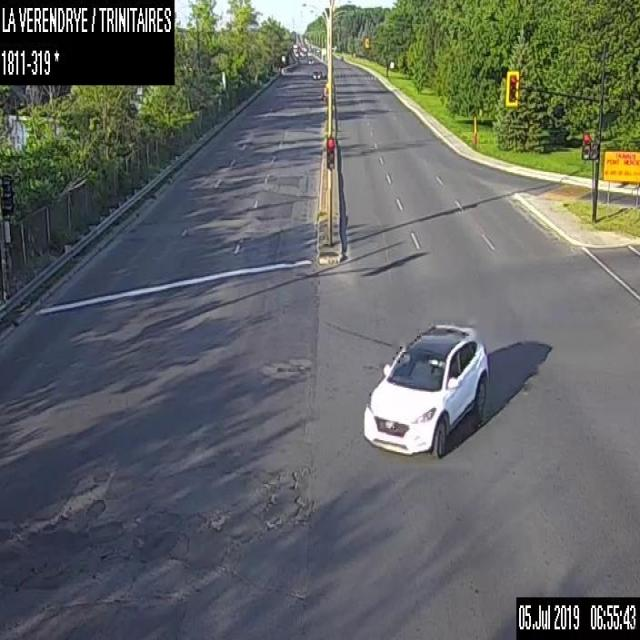vehicle: (361, 320, 488, 459), (312, 69, 319, 79)
